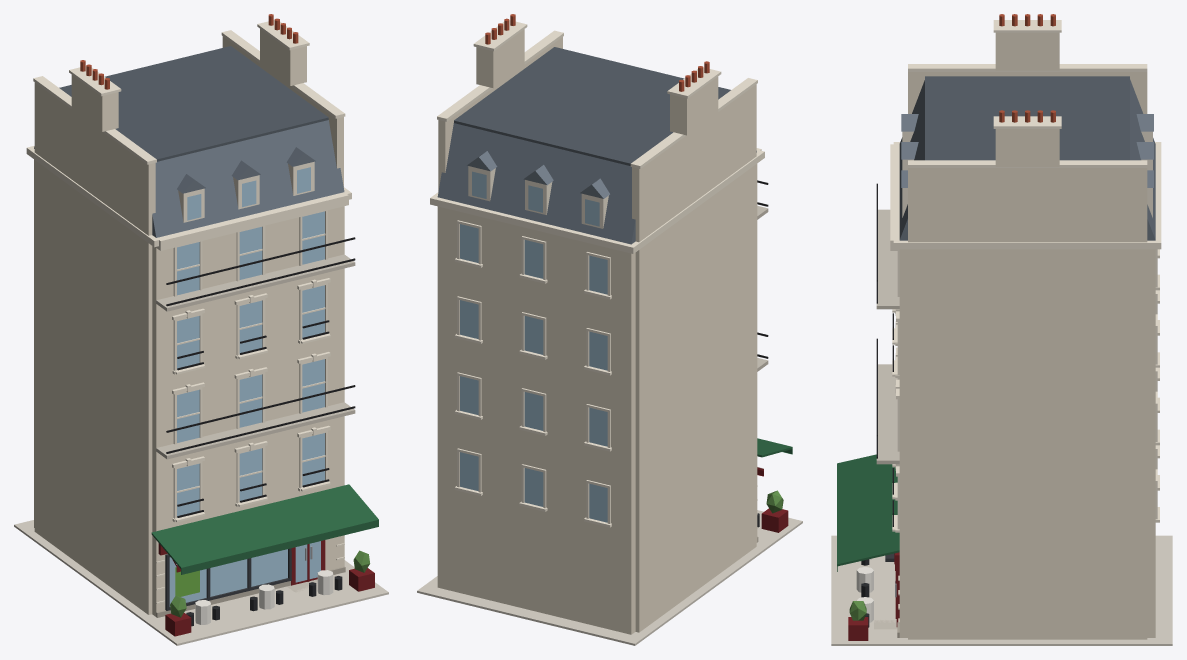
Rendered from Dukkan_cadde_bistro_Hafif.fbx.
The picture shows the model from 3 angles, left to right: view 1: azimuth 30°, elevation 25°; view 2: azimuth 150°, elevation 25°; view 3: azimuth 270°, elevation 25°; orthographic projection. The views are drawn at different scales.
Parts seen in each view (by area): view 1: Dukkan_cadde_bistro_Hafif; view 2: Dukkan_cadde_bistro_Hafif; view 3: Dukkan_cadde_bistro_Hafif.
Part boxes in pixels (<box>): Dukkan_cadde_bistro_Hafif: <box>14,14,388,645</box>; Dukkan_cadde_bistro_Hafif: <box>417,14,802,645</box>; Dukkan_cadde_bistro_Hafif: <box>831,14,1172,645</box>.
Size of the model in its own units: 9 by 20.52 by 12.
